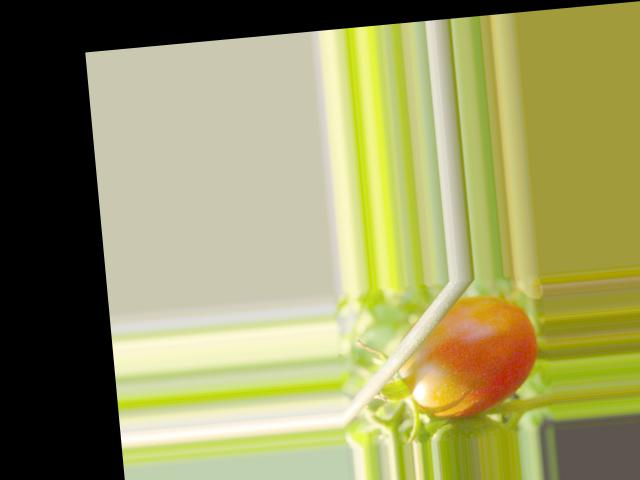tomato: (393, 292, 542, 420)
